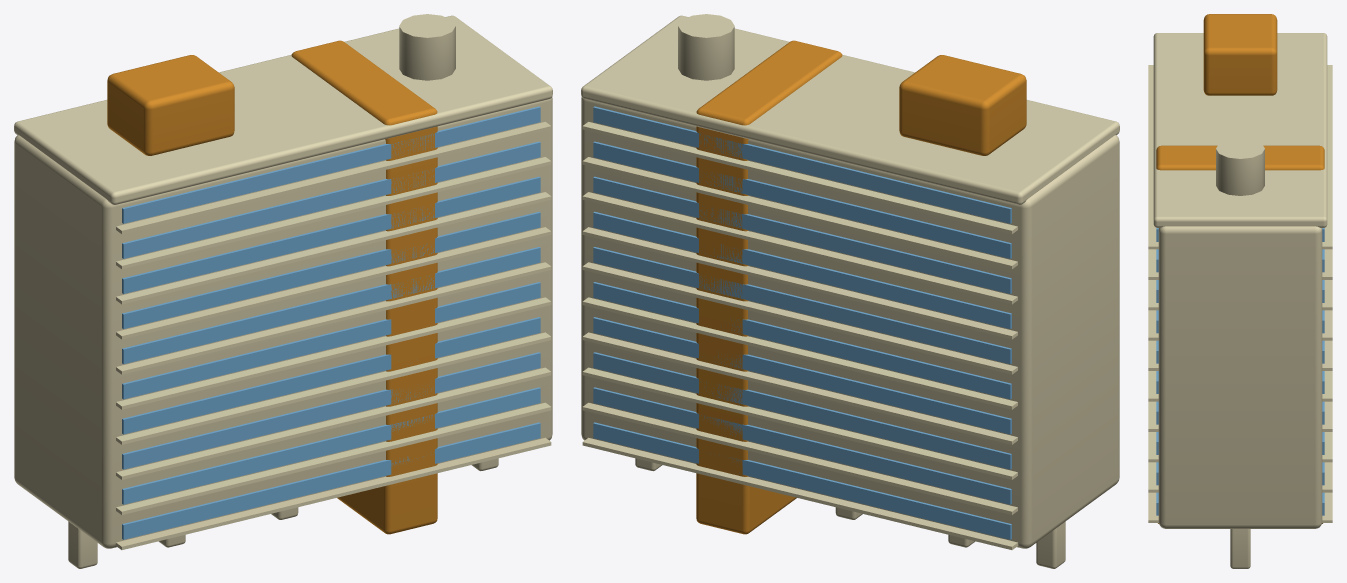
The model's file is hdb_c.glb.
3 views of the same model, side by side, from view 1: azimuth 30°, elevation 25°; view 2: azimuth 150°, elevation 25°; view 3: azimuth 270°, elevation 25° (orthographic). The views are drawn at different scales.
Visible parts, largest first — view 1: hdb_body, hdb_windows; view 2: hdb_body, hdb_windows; view 3: hdb_body, hdb_windows.
Part boxes in pixels (bbox=[...]): hdb_body: bbox=[14, 14, 552, 568]; hdb_windows: bbox=[122, 106, 540, 539]; hdb_body: bbox=[581, 14, 1119, 568]; hdb_windows: bbox=[593, 106, 1011, 539]; hdb_body: bbox=[1148, 14, 1332, 568]; hdb_windows: bbox=[1156, 228, 1324, 515].
Bounding box in the file's own units: 11 × 10.86 × 4.5.
